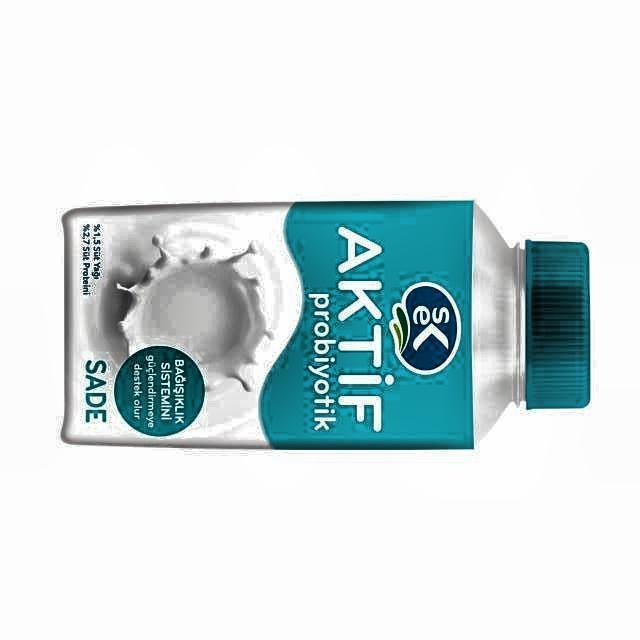plastic: (62, 200, 589, 449)
